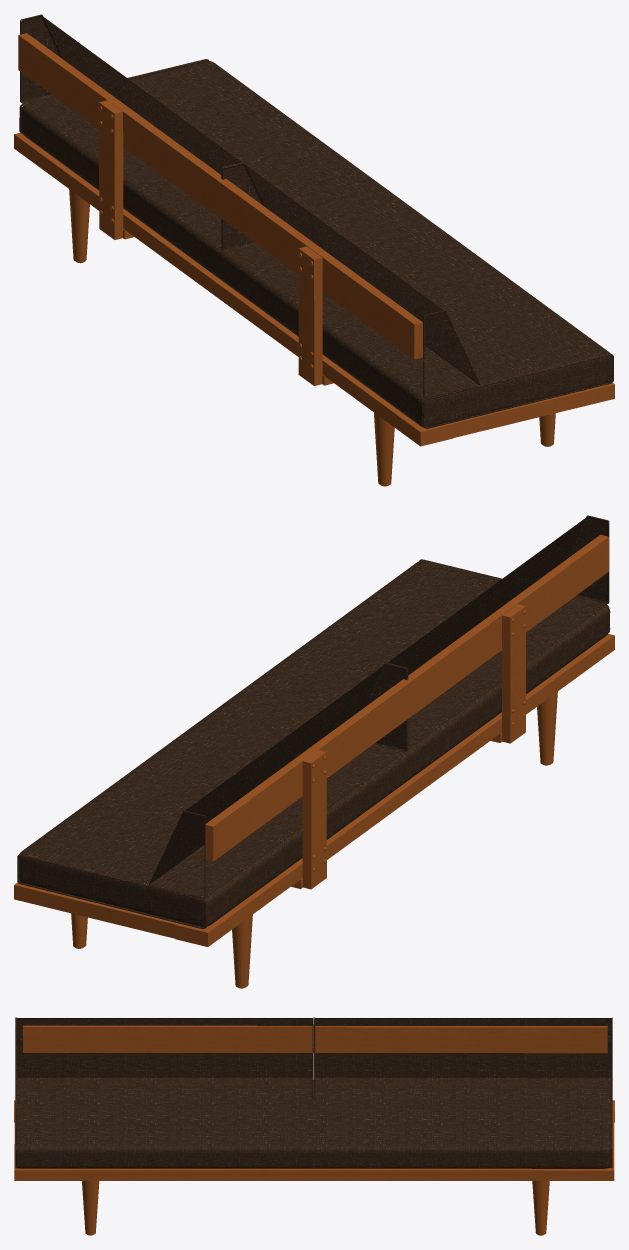
3 views of the same model, one above another, from view 1: azimuth 30°, elevation 25°; view 2: azimuth 150°, elevation 25°; view 3: azimuth 270°, elevation 25° (orthographic). The views are drawn at different scales.
Visible parts, largest first — view 1: Cylinder.005, Cylinder.068; view 2: Cylinder.005, Cylinder.068; view 3: Cylinder.005, Cylinder.068.
Boxes of the visible parts, bbox=[...] form: Cylinder.005: bbox=[19, 14, 613, 428]; Cylinder.068: bbox=[14, 33, 614, 486]; Cylinder.005: bbox=[17, 515, 610, 928]; Cylinder.068: bbox=[14, 534, 614, 988]; Cylinder.005: bbox=[15, 1017, 612, 1168]; Cylinder.068: bbox=[14, 1024, 614, 1235].
Bounding box in the file's own units: 0.8029 × 0.7788 × 2.75.
Materials: 2 (2 with a texture image).
